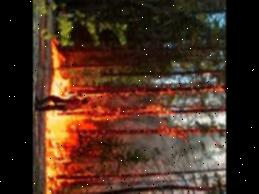fire: (37, 32, 100, 194)
